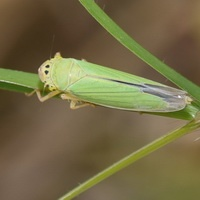insect: (38, 53, 191, 111)
